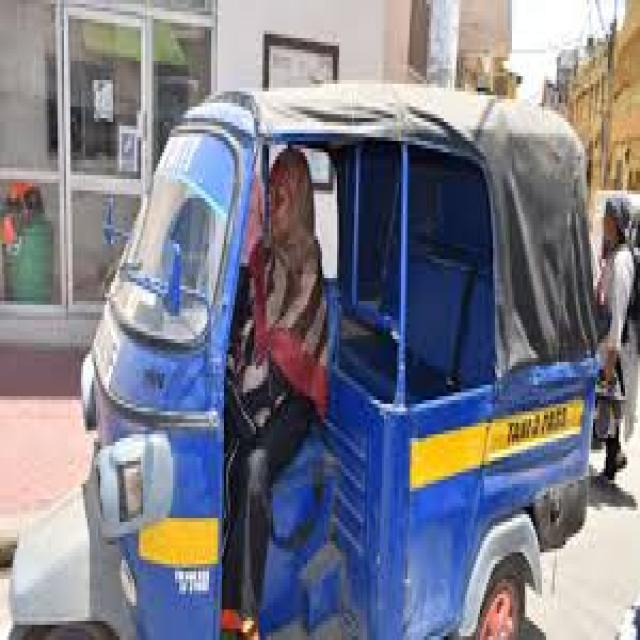tuktuk: (0, 19, 636, 640)
